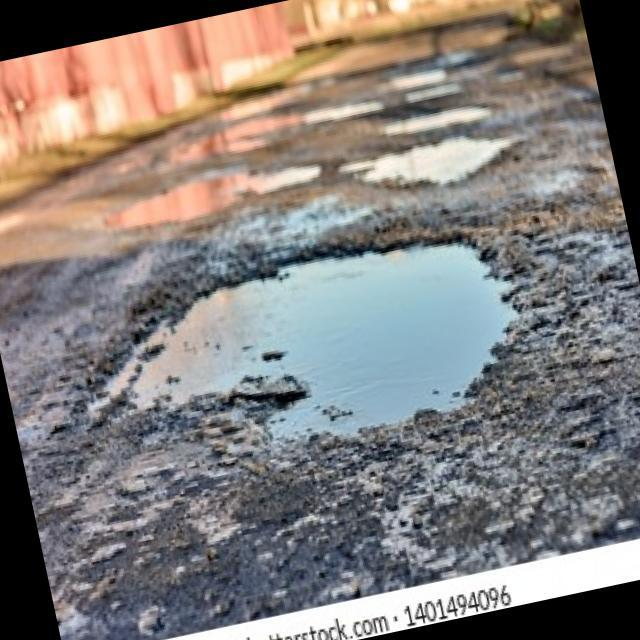Pothole: (79, 209, 542, 489), (110, 138, 328, 241), (336, 118, 530, 206), (376, 92, 499, 144), (402, 76, 464, 105)
